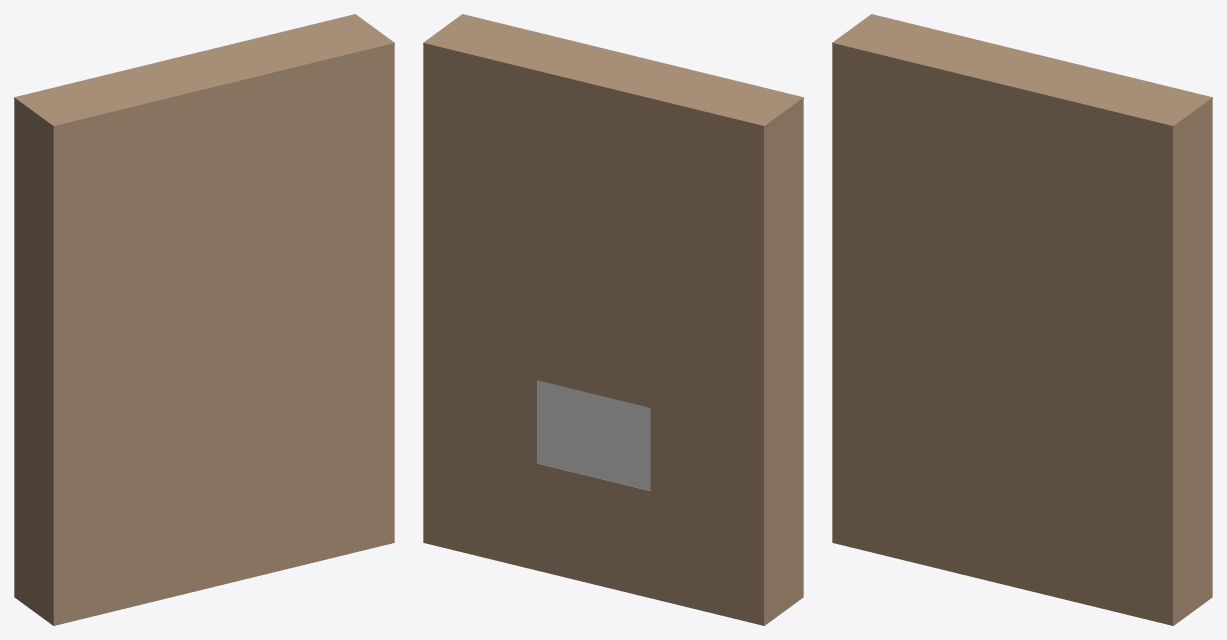
File: flower-box-standard-closed.glb
The picture shows the model from 3 angles, left to right: view 1: azimuth 30°, elevation 25°; view 2: azimuth 150°, elevation 25°; view 3: azimuth 330°, elevation 25°; orthographic projection.
Parts seen in each view (by area): view 1: fstd_body, fstd_lid; view 2: fstd_body, fstd_lid, fstd_film; view 3: fstd_body, fstd_lid.
Boxes of the visible parts, left/top/right/bottom form: fstd_body: left=14, top=43, right=394, bottom=625; fstd_lid: left=14, top=14, right=394, bottom=126; fstd_body: left=423, top=43, right=803, bottom=625; fstd_lid: left=423, top=14, right=803, bottom=126; fstd_film: left=538, top=381, right=649, bottom=489; fstd_body: left=832, top=43, right=1212, bottom=625; fstd_lid: left=832, top=14, right=1212, bottom=126.
Size of the model in its own units: 0.15 by 0.21 by 0.03.
